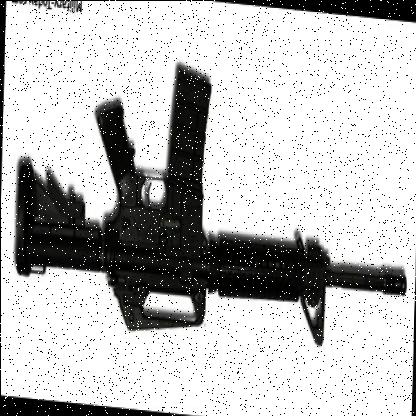rifle: (17, 46, 415, 342)
